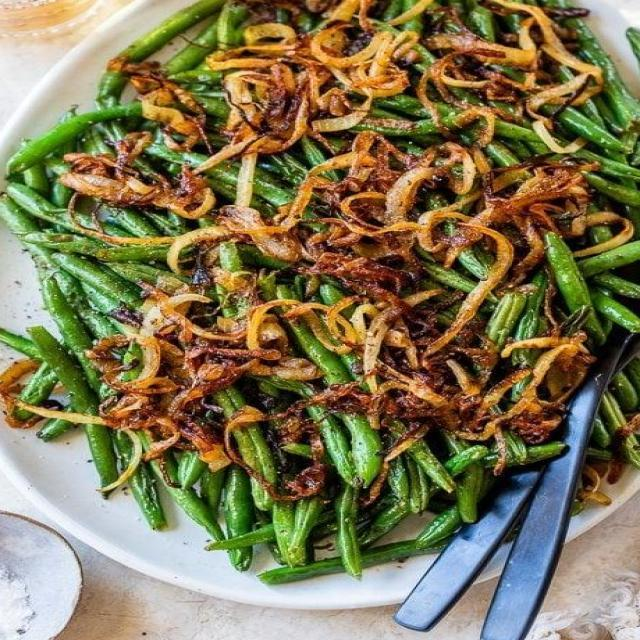Beans: (0, 0, 639, 579)
